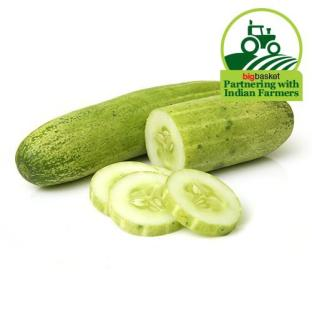Cucumber: (16, 82, 219, 185), (146, 96, 293, 171), (163, 170, 240, 235), (110, 172, 181, 235), (90, 162, 158, 215), (153, 166, 172, 175)
